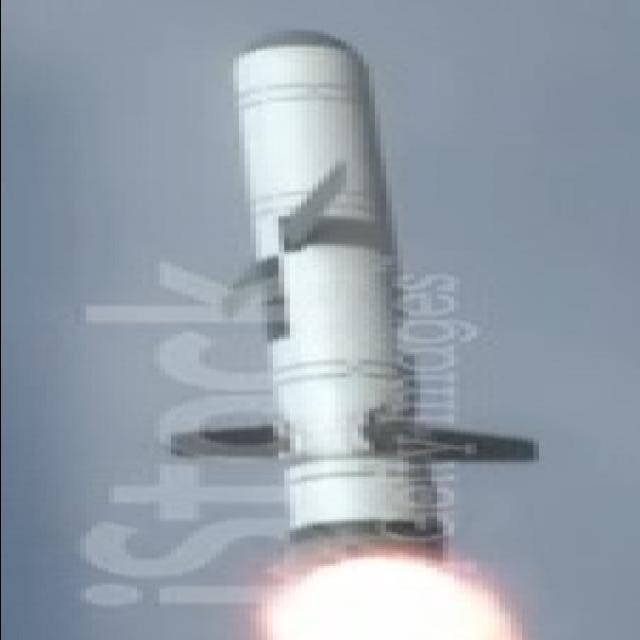missile: (220, 25, 480, 599)
